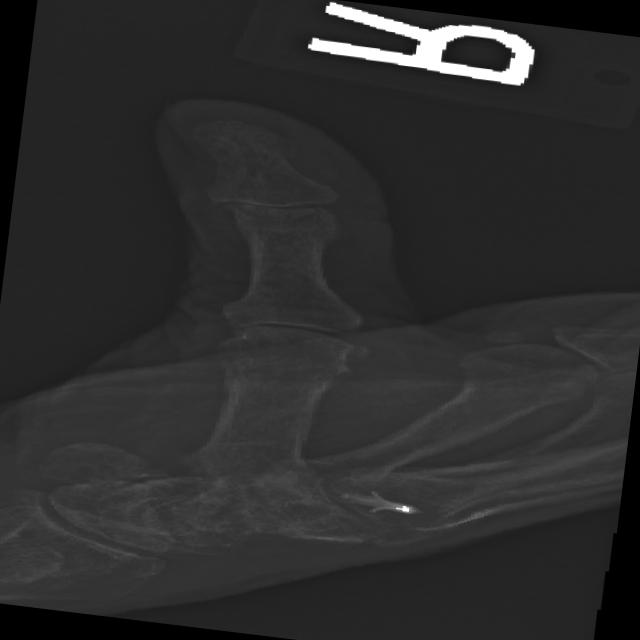fingers positive: (214, 176, 336, 243)
